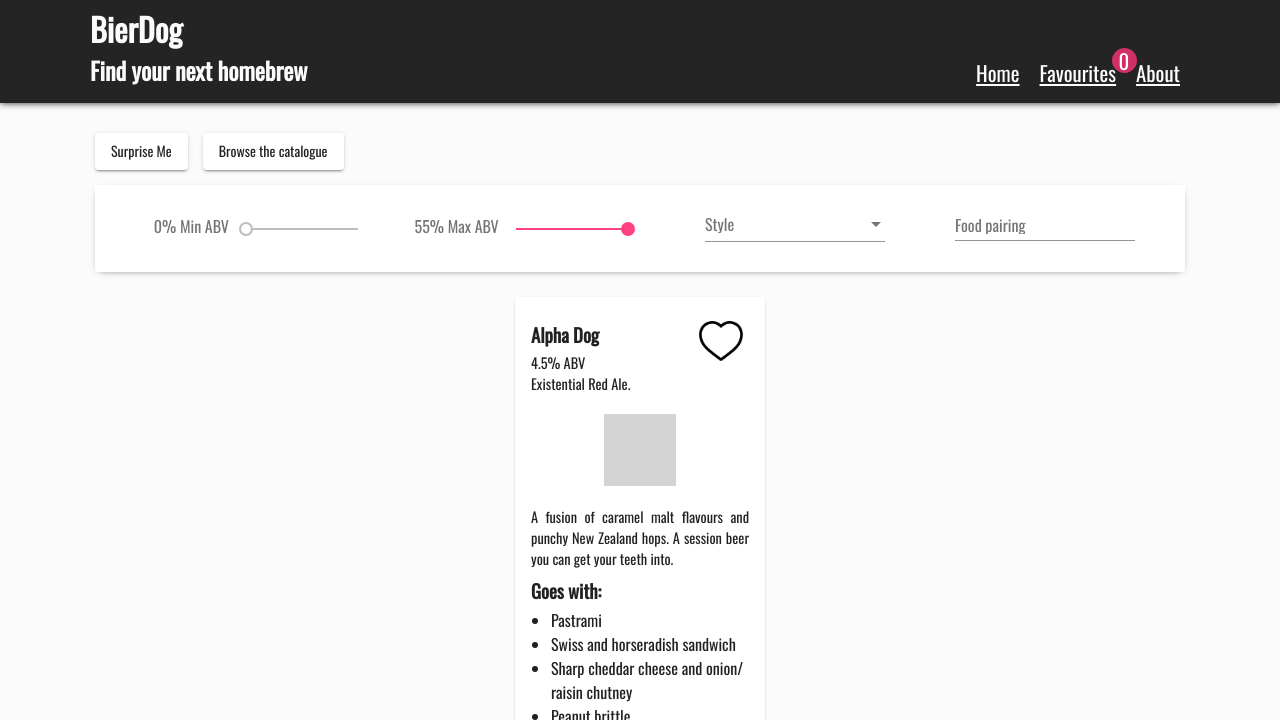
Test case: the home page › should browse biers
The image size is (1280, 720).
Click the button "Browse the catalogue". click: (274, 152)
box: [203,133,344,170]
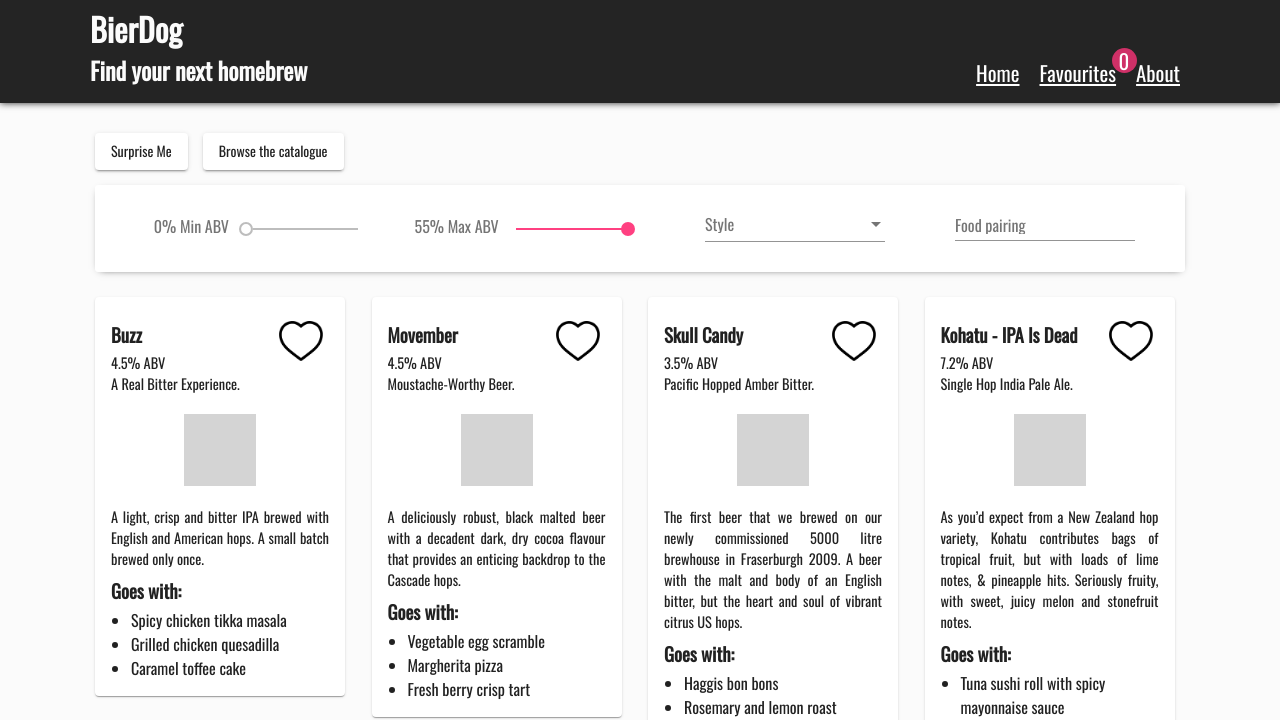
Result: the number of elements with test id "bier-card" is 50
